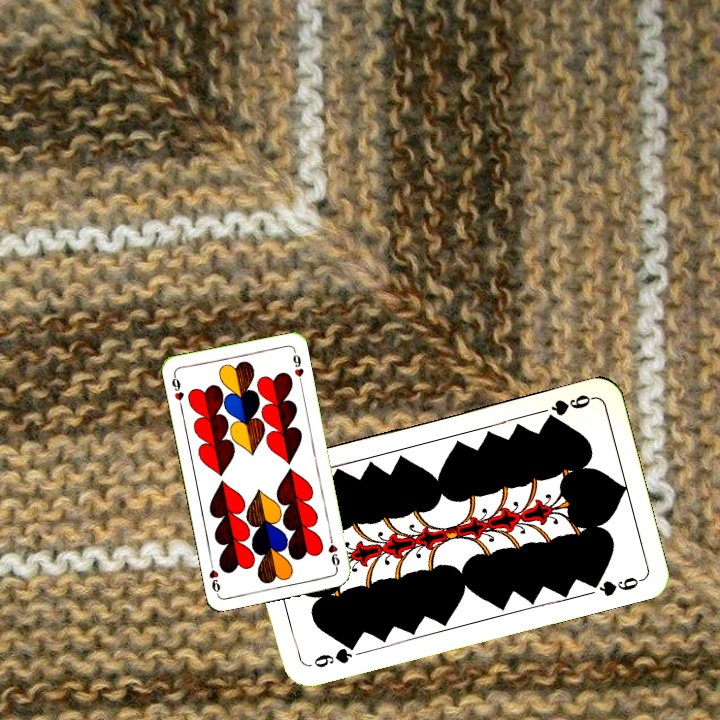G9: (541, 390, 597, 425), (309, 639, 360, 670)
H9: (168, 370, 186, 411), (324, 532, 342, 572)
